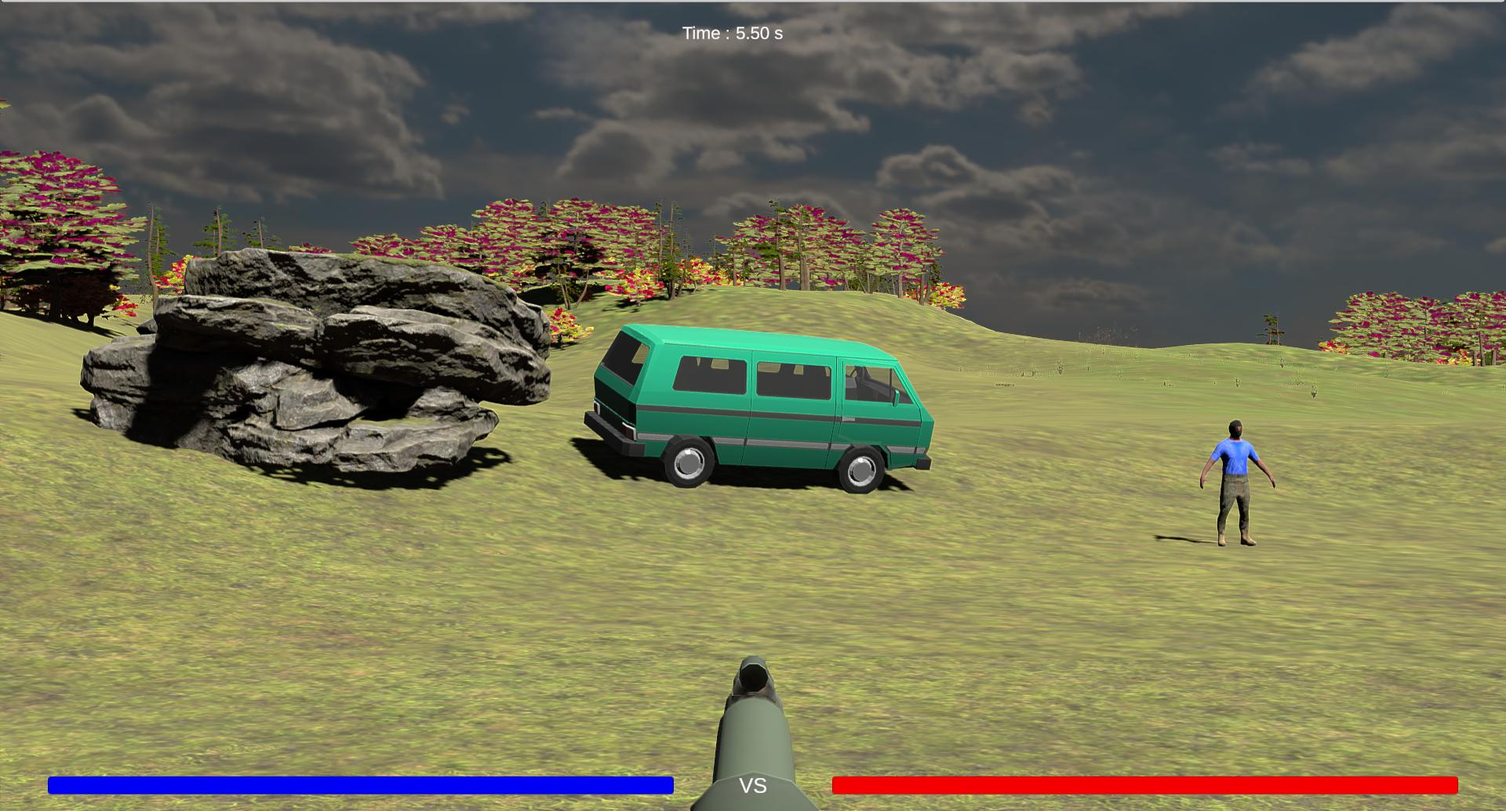Human: (1201, 418, 1277, 548)
car: (583, 326, 936, 496)
